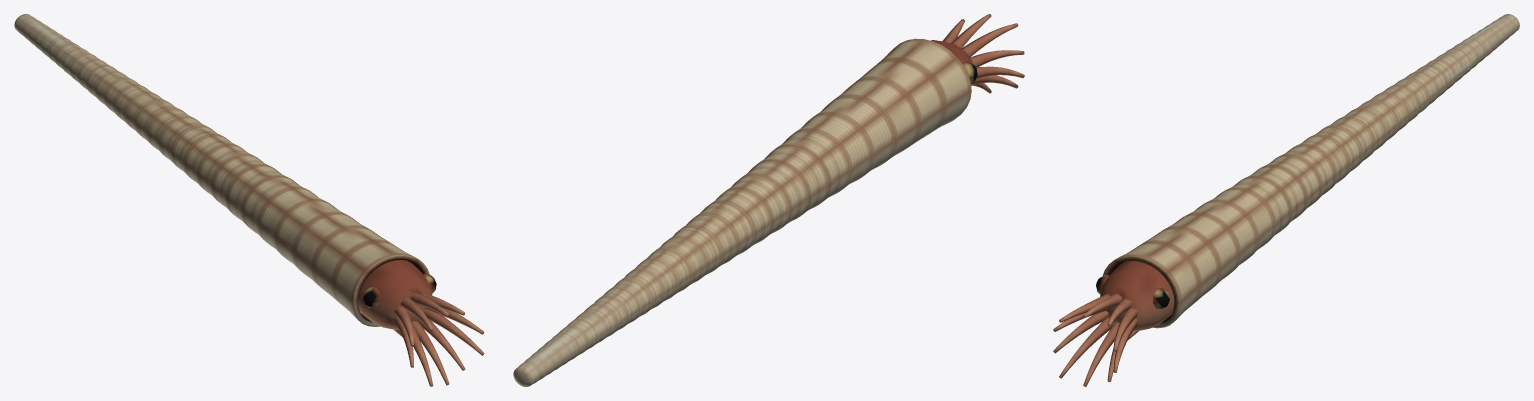
Rendered from Endoceras.fbx.
3 renders of one model, left to right at view 1: azimuth 30°, elevation 25°; view 2: azimuth 150°, elevation 25°; view 3: azimuth 330°, elevation 25°, orthographic. The views are drawn at different scales.
Parts seen in each view (by area): view 1: Endoceras; view 2: Endoceras; view 3: Endoceras.
Boxes of the visible parts, box(x1,y1,x2,y2) form: Endoceras: box(14, 14, 484, 386); Endoceras: box(513, 14, 1024, 386); Endoceras: box(1053, 14, 1519, 386).
Bounding box in the file's own units: 0.2377 × 0.2586 × 2.27.
